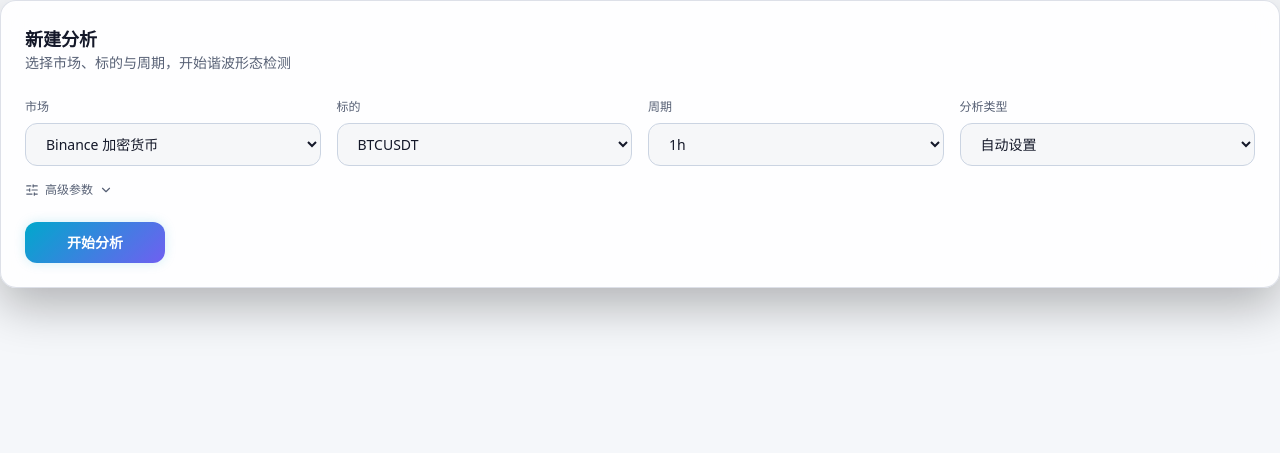
AnalyzeForm › toggles advanced parameters panel
Expected: the text "限定数量 (limit_to)" is not shown
Click the button "高级参数".
click(69, 190)  # box left=25, top=182, right=113, bottom=198
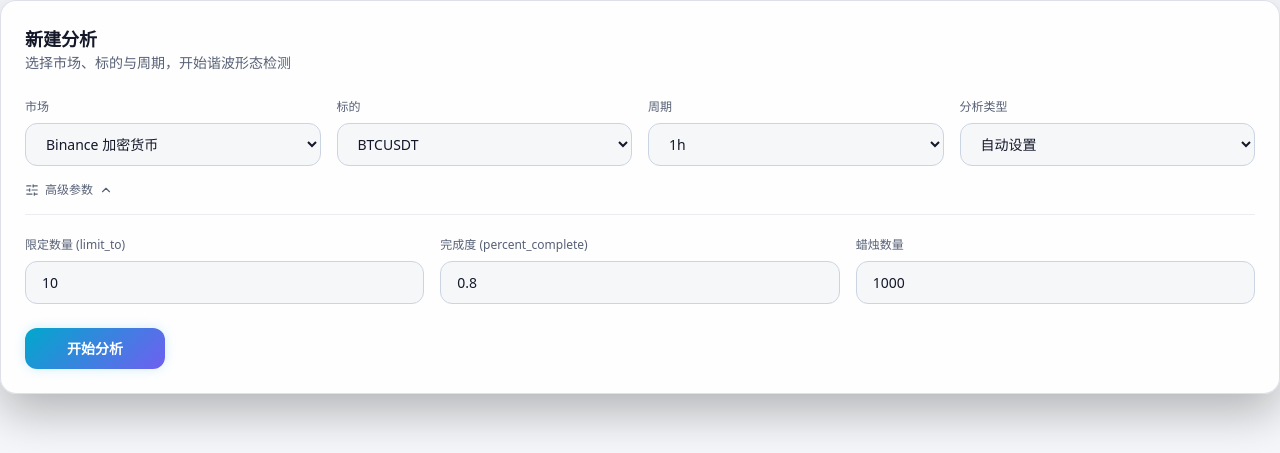
Expected: the text "限定数量 (limit_to)" is shown, left=25, top=236, right=125, bottom=253
Expected: the text "完成度 (percent_complete)" is shown, left=440, top=236, right=588, bottom=253
Expected: the text "蜡烛数量" is shown, left=856, top=236, right=904, bottom=253
Click the button "高级参数".
click(69, 190)  # box left=25, top=182, right=113, bottom=198
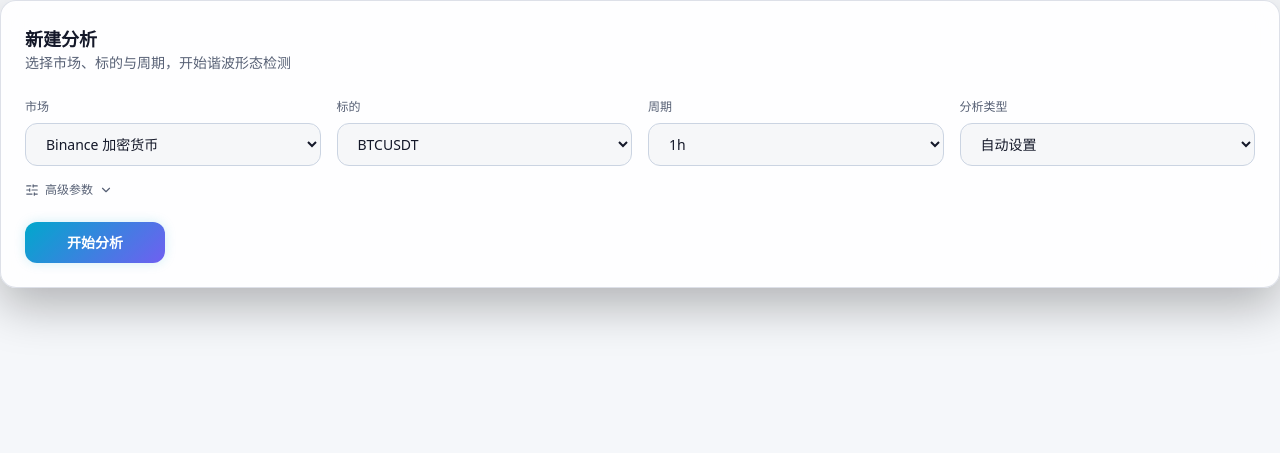
Expected: the text "限定数量 (limit_to)" is gone
